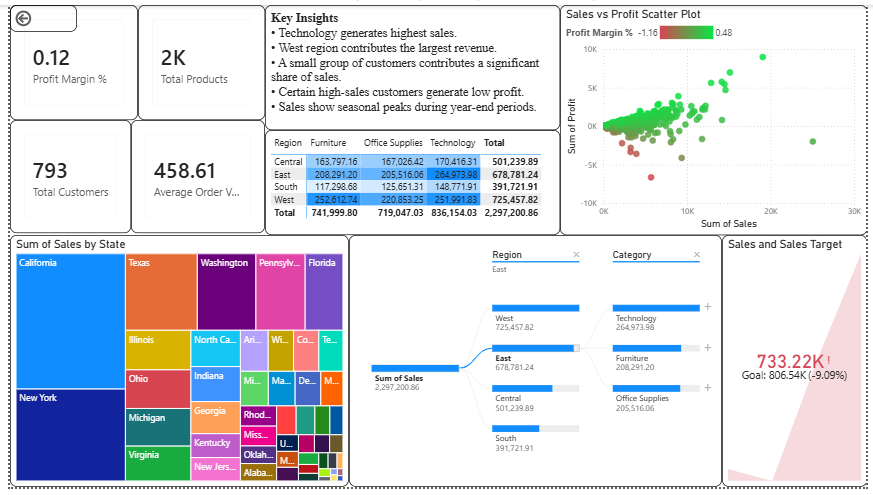

The dashboard page shown, as its layout file describes it:
{"tool":"powerbi","page":{"name":"Page 2","canvas":[1280,720],"ordinal":1},"visuals":[{"type":"cardVisual","fields":{"Data":["Superstore.Profit Margin %"]},"box":[0,0,191.2,171.8],"z":0},{"type":"cardVisual","fields":{"Data":["Superstore.Average Order Value"]},"box":[180.7,171.8,200.2,168.8],"z":1000},{"type":"cardVisual","fields":{"Data":["Superstore.Total Customers"]},"box":[0,171.8,180.7,168.8],"z":2000},{"type":"cardVisual","fields":{"Data":["Superstore.Total Products"]},"box":[191.2,0,189.7,171.8],"z":3000},{"type":"scatterChart","title":"Sales vs Profit Scatter Plot","fields":{"X":["Sum(Superstore.Sales)"],"Y":["Sum(Superstore.Profit)"],"Category":["Superstore.Customer Name"]},"box":[821.6,0,458.6,343.6],"z":4000},{"type":"actionButton","box":[0,0,100,40],"z":5000},{"type":"pivotTable","fields":{"Rows":["Superstore.Region"],"Columns":["Superstore.Category"],"Values":["Sum(Superstore.Sales)"]},"box":[380.9,186.7,440.7,156.8],"z":6000},{"type":"decompositionTreeVisual","fields":{"Analyze":["Sum(Superstore.Sales)"],"ExplainBy":["Superstore.Region","Superstore.Category","Superstore.Segment","Superstore.Sub-Category"]},"box":[506.4,343.6,557.2,376.4],"z":7000},{"type":"kpi","title":" Sales and Sales Target ","fields":{"Goal":["Superstore.Sales Target"],"Indicator":["Sum(Superstore.Sales)"],"TrendLine":["Superstore.Order Date.Variation.Date Hierarchy.Year"]},"box":[1063.6,343.6,216.6,376.4],"z":7001},{"type":"treemap","fields":{"Group":["Superstore.State"],"Values":["Sum(Superstore.Sales)"]},"box":[0,343.6,506.4,376.4],"z":7002},{"type":"textbox","box":[380.9,0,440.7,186.7],"z":7003}]}

Visuals, with their boxes in screenshot pixels (x1, y1, x2, y2), scaled from the page's 1280x720 canvas onto the 873x495 screenshot:
cardVisual - Superstore.Profit Margin %: bbox=[0, 0, 130, 118]
cardVisual - Superstore.Average Order Value: bbox=[123, 118, 260, 234]
cardVisual - Superstore.Total Customers: bbox=[0, 118, 123, 234]
cardVisual - Superstore.Total Products: bbox=[130, 0, 260, 118]
"Sales vs Profit Scatter Plot" scatterChart: bbox=[560, 0, 872, 236]
actionButton: bbox=[0, 0, 68, 28]
pivotTable - Superstore.Region x Superstore.Category: bbox=[260, 128, 560, 236]
decompositionTreeVisual - Sum(Superstore.Sales) x Superstore.Region: bbox=[345, 236, 725, 494]
" Sales and Sales Target " kpi: bbox=[725, 236, 872, 494]
treemap - Superstore.State x Sum(Superstore.Sales): bbox=[0, 236, 345, 494]
textbox: bbox=[260, 0, 560, 128]
